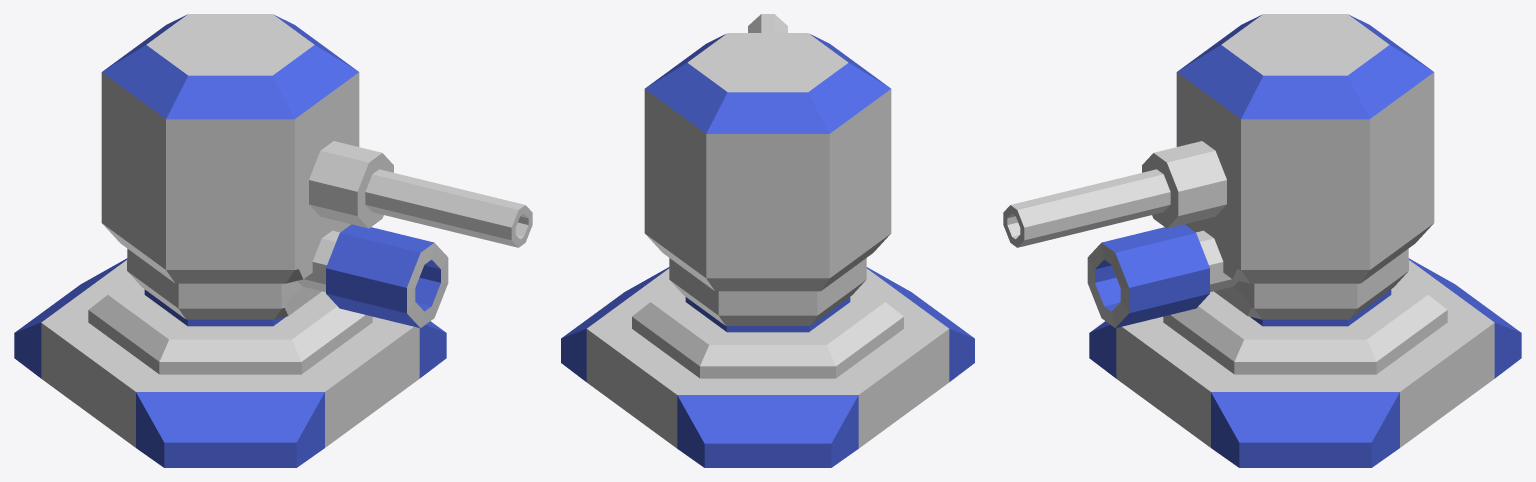
File: towera.glb
3 renders of one model, left to right at view 1: azimuth 30°, elevation 25°; view 2: azimuth 150°, elevation 25°; view 3: azimuth 270°, elevation 25°, orthographic. The views are drawn at different scales.
Visible parts, largest first — view 1: Head, Base, Head.001; view 2: Head, Base, Head.001; view 3: Head, Base, Head.001.
Part boxes in pixels (x1=…): Head: x1=101, y1=14, x2=532, y2=326; Base: x1=14, y1=258, x2=446, y2=467; Head.001: x1=127, y1=224, x2=448, y2=328; Head: x1=644, y1=14, x2=891, y2=332; Base: x1=561, y1=267, x2=974, y2=467; Head.001: x1=669, y1=258, x2=866, y2=325; Head: x1=1003, y1=14, x2=1434, y2=326; Base: x1=1089, y1=258, x2=1521, y2=467; Head.001: x1=1087, y1=224, x2=1408, y2=328.
Bounding box in the file's own units: 1.98 × 1.95 × 2.74.
